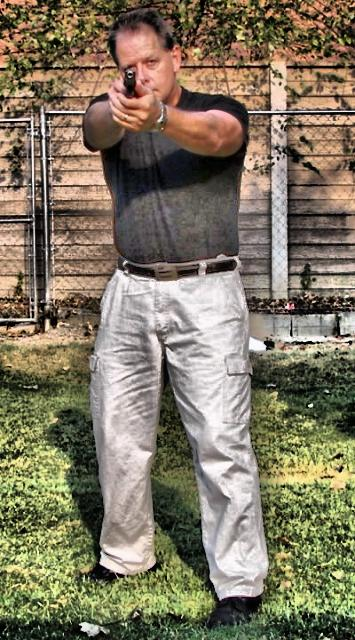pistol: (122, 69, 138, 99)
